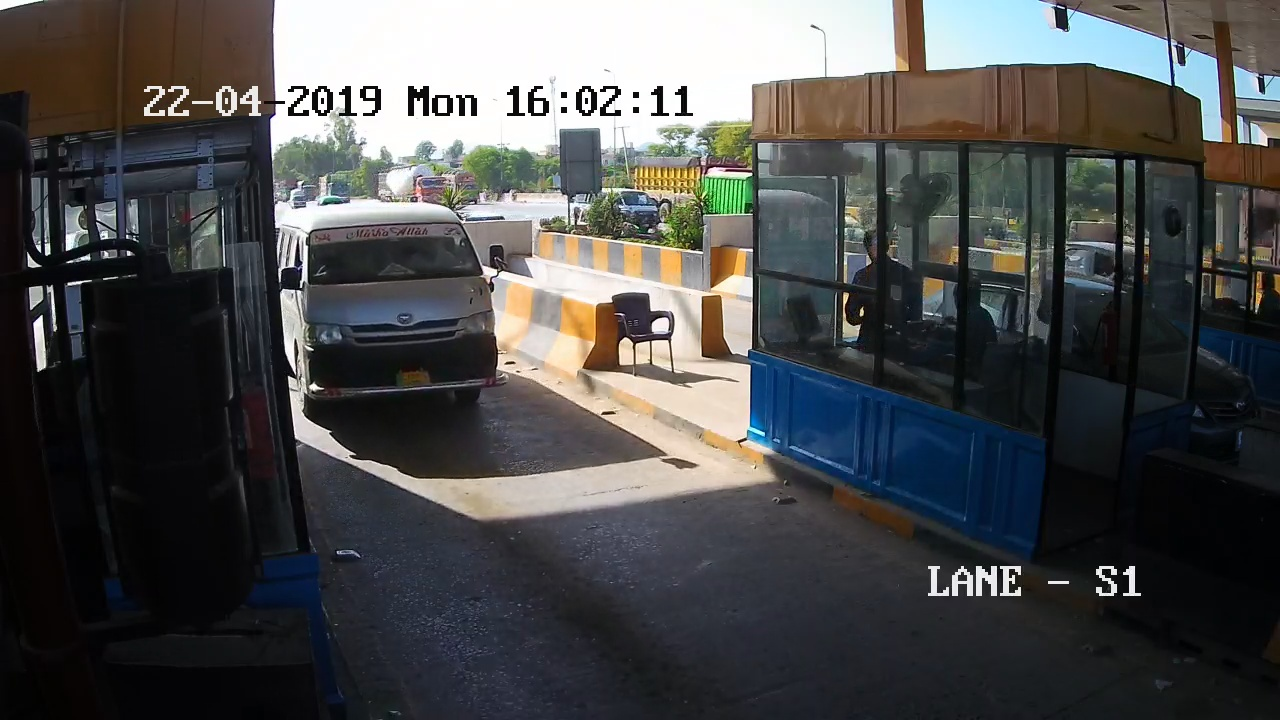car: (275, 185, 519, 452)
